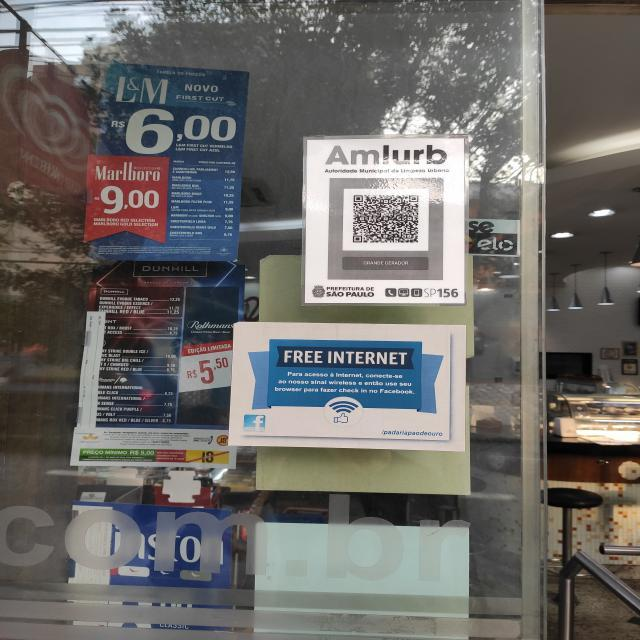qrcode: (354, 196, 419, 244)
